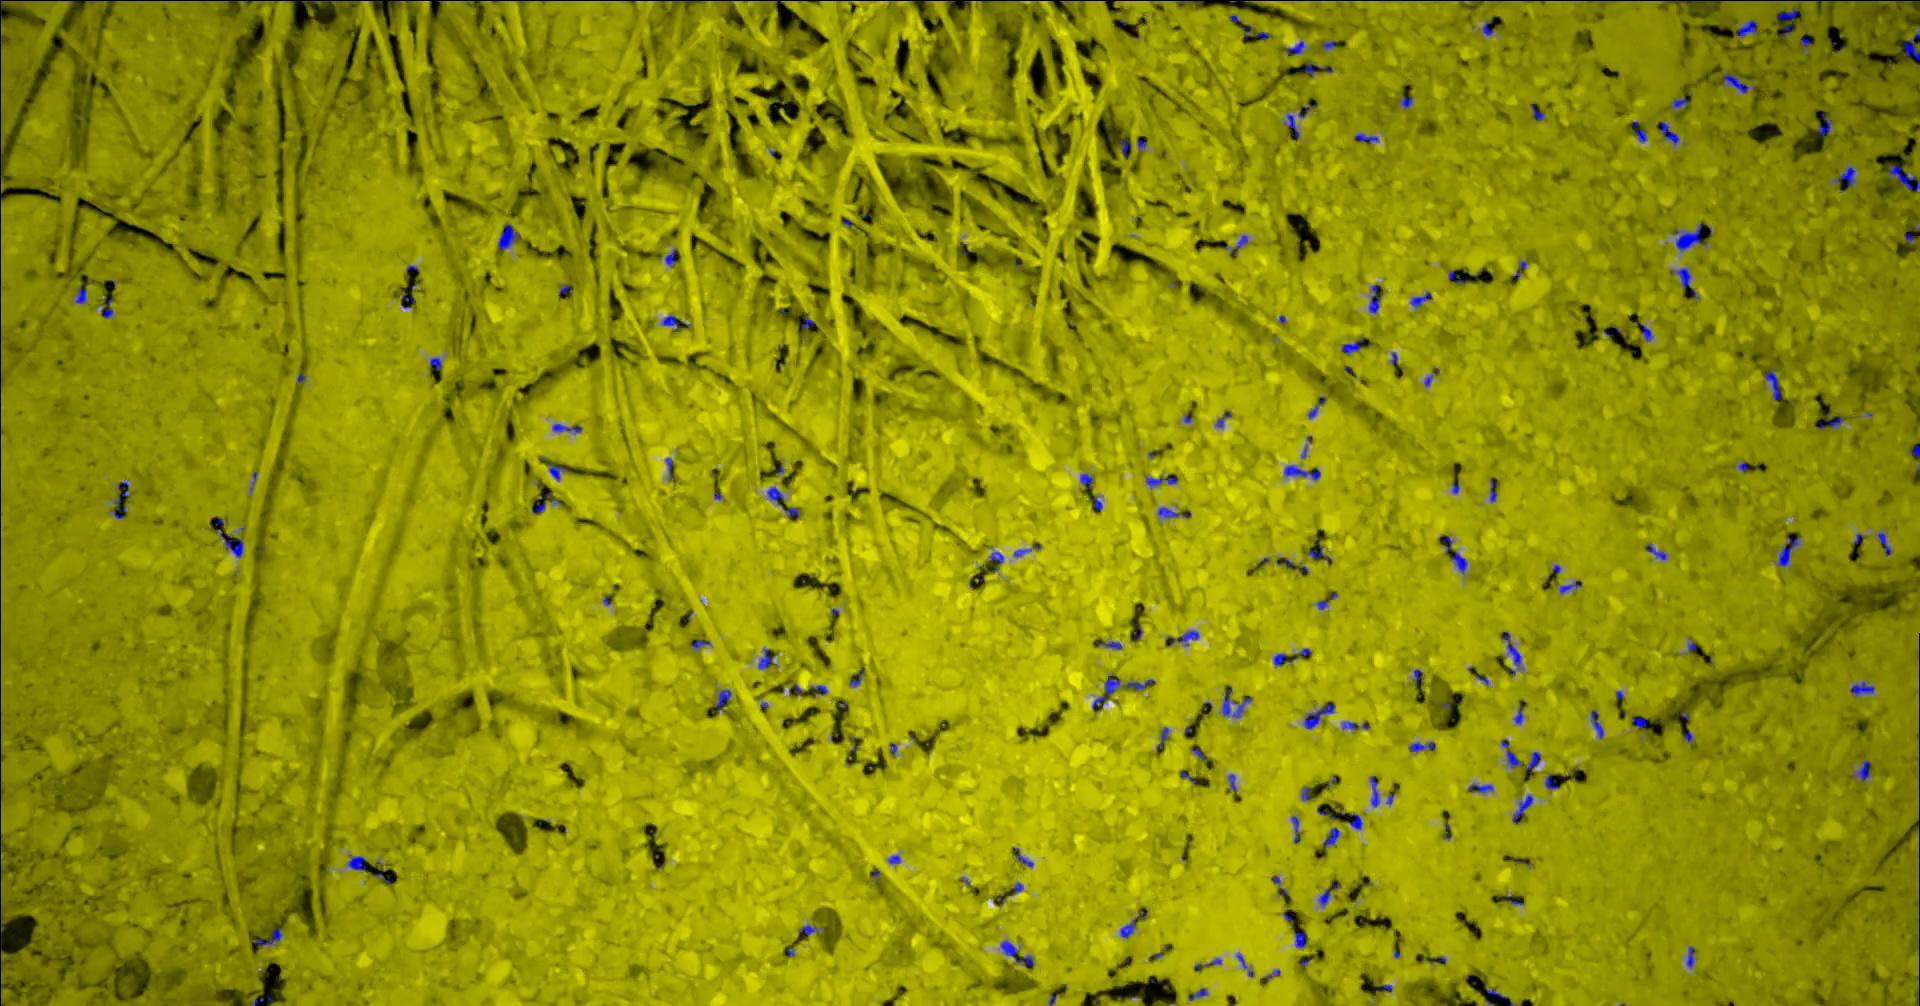ant: (215, 517, 243, 558), (1092, 677, 1120, 711), (1222, 686, 1251, 716), (1888, 164, 1919, 192), (1674, 224, 1705, 250), (1671, 267, 1698, 298), (1001, 940, 1032, 967), (1119, 907, 1145, 937), (1303, 702, 1335, 728), (1777, 533, 1799, 567), (1501, 631, 1521, 666), (1722, 72, 1754, 93), (1777, 8, 1798, 37), (497, 224, 519, 250), (1511, 794, 1531, 823), (1763, 367, 1780, 400), (251, 927, 281, 946), (1655, 121, 1679, 144), (1903, 30, 1919, 66), (1501, 741, 1521, 767), (1283, 465, 1321, 479), (1318, 882, 1338, 906), (1272, 875, 1290, 902), (1167, 630, 1197, 645), (662, 315, 688, 332), (1832, 166, 1855, 185), (1449, 550, 1467, 574), (1851, 760, 1870, 781), (1368, 283, 1382, 312), (1284, 113, 1299, 140), (712, 688, 730, 711), (1145, 475, 1177, 488), (1307, 535, 1323, 559), (1304, 62, 1332, 76), (758, 648, 776, 669), (1230, 234, 1247, 257), (1633, 321, 1652, 340), (1630, 121, 1647, 142), (1410, 291, 1431, 307), (1341, 338, 1363, 354), (1590, 710, 1603, 738), (549, 461, 568, 479), (766, 486, 783, 506), (1015, 847, 1032, 866), (1850, 681, 1874, 695), (1737, 19, 1757, 36), (1646, 542, 1666, 559), (110, 497, 126, 518), (1369, 775, 1379, 807), (1817, 112, 1831, 135), (1877, 532, 1891, 555), (1526, 751, 1540, 774), (1323, 827, 1338, 847), (1125, 680, 1154, 690), (1671, 91, 1690, 107), (347, 855, 366, 870), (1559, 580, 1581, 593), (1156, 727, 1168, 748), (1286, 39, 1304, 55), (1825, 412, 1843, 427), (1408, 741, 1435, 751), (1467, 782, 1493, 793), (552, 423, 582, 432), (1448, 271, 1468, 283), (74, 283, 86, 304), (401, 287, 414, 307), (1347, 813, 1363, 829), (1298, 103, 1316, 117), (800, 312, 814, 330), (850, 668, 863, 686), (1354, 133, 1378, 144), (1189, 987, 1208, 1000), (1119, 138, 1130, 159), (664, 248, 677, 265), (1157, 507, 1178, 517), (1079, 473, 1093, 488), (988, 551, 1003, 565), (1544, 774, 1558, 789), (1294, 931, 1307, 948), (1291, 815, 1299, 842), (799, 923, 817, 935), (1530, 104, 1543, 119), (102, 298, 112, 318), (1097, 641, 1121, 649), (117, 481, 130, 495), (1272, 653, 1286, 666), (1630, 716, 1646, 728), (810, 685, 827, 695), (1490, 479, 1497, 500), (1686, 945, 1694, 967), (301, 0, 359, 3), (1399, 97, 1412, 108), (429, 357, 441, 370), (1663, 0, 1722, 1)
